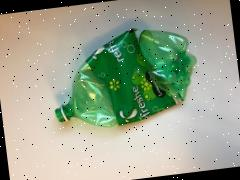plastic: (27, 16, 218, 169)
